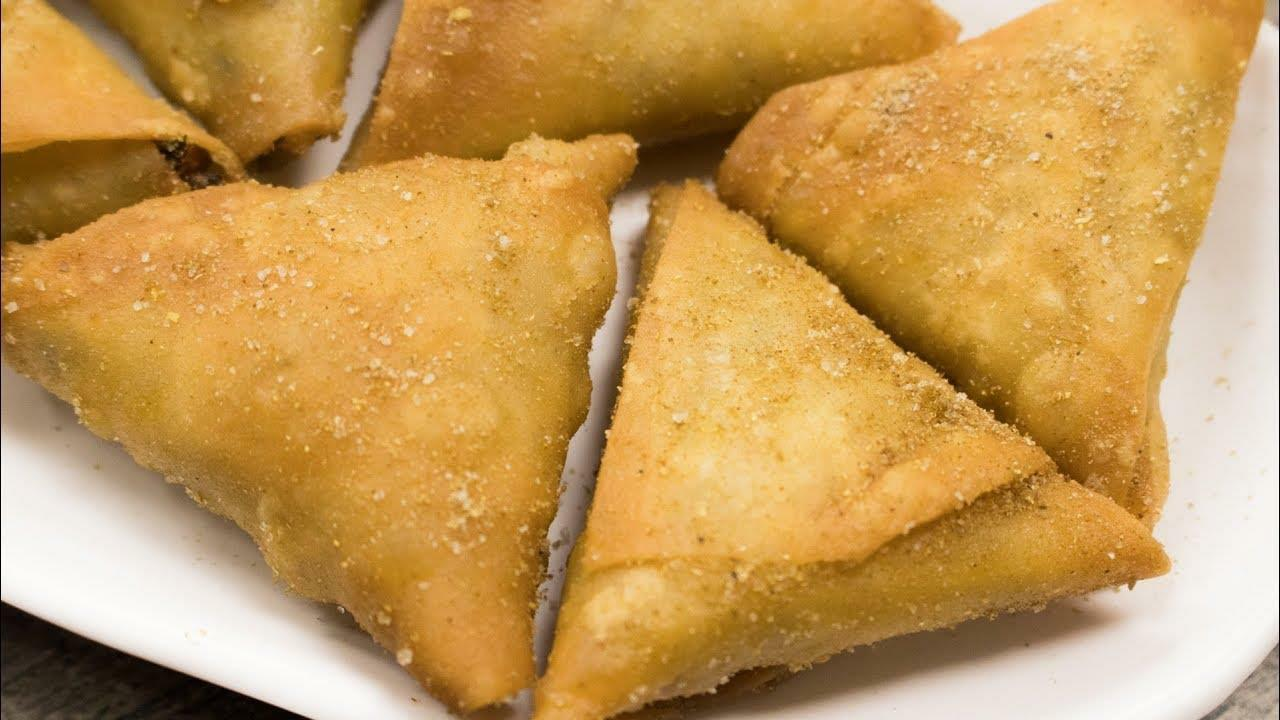Samosa: (0, 136, 640, 720), (533, 186, 1171, 720), (710, 0, 1272, 529)
